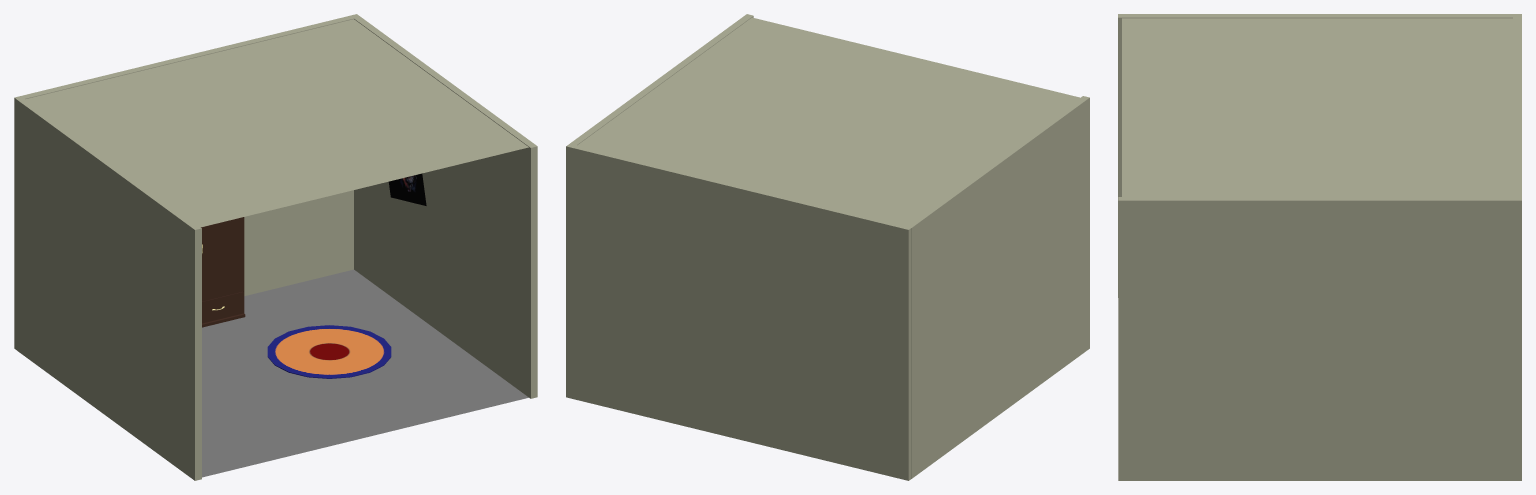
Rendered from 换装房间.FBX.
3 renders of one model, left to right at view 1: azimuth 30°, elevation 25°; view 2: azimuth 150°, elevation 25°; view 3: azimuth 270°, elevation 25°, orthographic. The views are drawn at different scales.
Visible parts, largest first — view 1: Plane002, Rectangle002, Plane001, Rectangle003, Rectangle001, Cylinder001, Rectangle007, Rectangle008, Plane003; view 2: Rectangle001, Plane002, Rectangle002, Rectangle003; view 3: Rectangle003, Plane002, Rectangle001, Rectangle002.
Part boxes in pixels (bbox=[...]): Plane002: bbox=[26, 19, 528, 227]; Rectangle002: bbox=[17, 98, 201, 480]; Plane001: bbox=[202, 269, 528, 477]; Rectangle003: bbox=[353, 17, 537, 398]; Rectangle001: bbox=[14, 14, 360, 349]; Cylinder001: bbox=[267, 325, 391, 378]; Rectangle007: bbox=[201, 217, 243, 300]; Rectangle008: bbox=[202, 291, 243, 323]; Plane003: bbox=[388, 173, 426, 205]; Rectangle001: bbox=[566, 143, 912, 480]; Plane002: bbox=[578, 17, 1079, 225]; Rectangle002: bbox=[906, 96, 1089, 478]; Rectangle003: bbox=[570, 14, 753, 145]; Rectangle003: bbox=[1118, 197, 1515, 480]; Plane002: bbox=[1122, 18, 1512, 196]; Rectangle001: bbox=[1513, 14, 1521, 480]; Rectangle002: bbox=[1118, 14, 1514, 297].
Size of the model in its own units: 500 by 350 by 457.
Materials: 7 (2 with a texture image).
